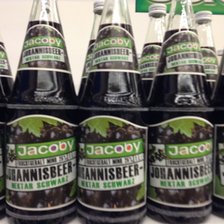juice: (4, 1, 80, 222), (79, 1, 148, 223), (148, 1, 214, 223)
